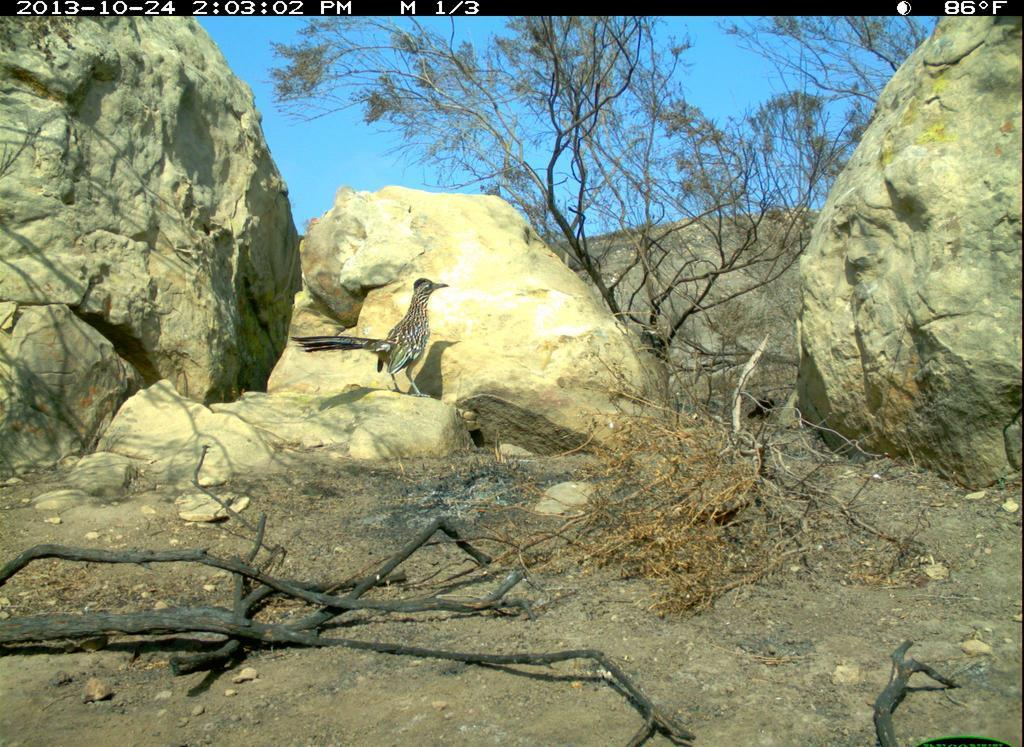bird: (304, 277, 461, 409)
